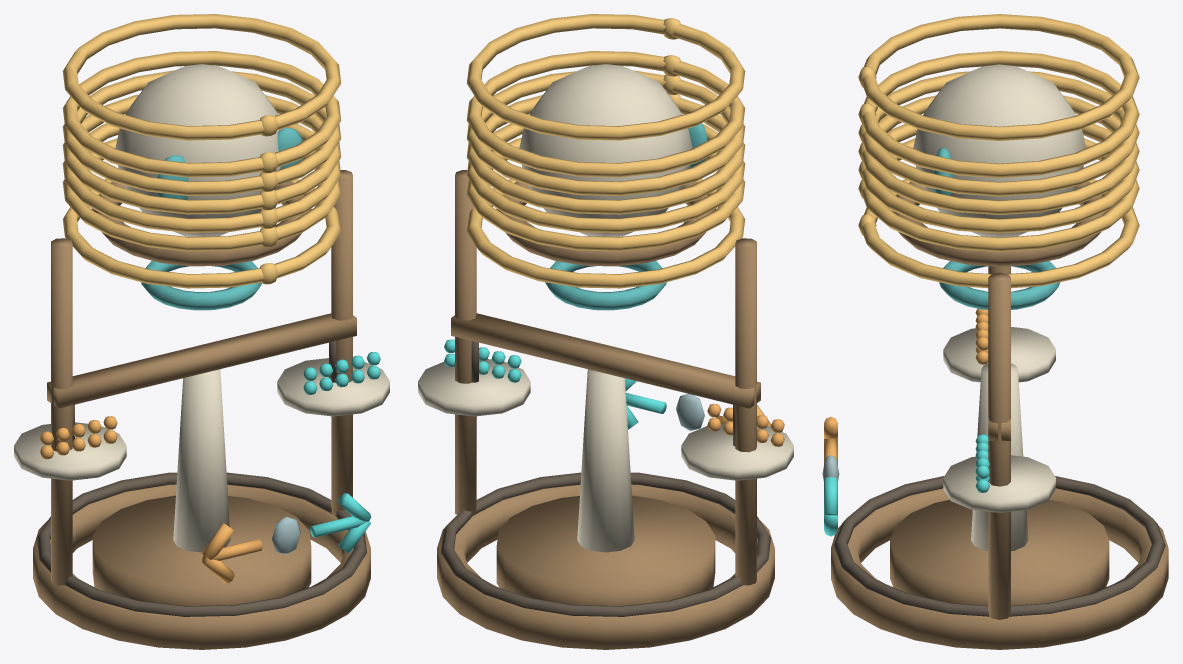
Rendered from world14-gravity-anchors.glb.
The picture shows the model from 3 angles, left to right: view 1: azimuth 30°, elevation 25°; view 2: azimuth 150°, elevation 25°; view 3: azimuth 270°, elevation 25°; orthographic projection.
Parts seen in each view (by area): view 1: bronze-hollow-foot, balance-foot, ceramic-floating-core, gold-mass-ring-5, balance-crossbar, gold-mass-ring-3, balance-column, footcourse, gold-mass-ring-2, bronze-upright, gold-mass-ring-2.001, bronze-upright.001 (+11 smaller); view 2: balance-foot, bronze-hollow-foot, ceramic-floating-core, gold-mass-ring-5, gold-mass-ring-3, balance-crossbar, balance-column, footcourse, bronze-upright, gold-mass-ring-2, bronze-upright.001, gold-mass-ring-2.001 (+8 smaller); view 3: bronze-hollow-foot, balance-foot, ceramic-floating-core, gold-mass-ring-5, gold-mass-ring-3, footcourse, bronze-upright.001, gold-mass-ring-2, gold-mass-ring-2.001, gold-mass-ring-1, gold-mass-ring-1.001, gold-mass-ring-1.002 (+6 smaller).
Boxes of the visible parts, x1=… form: bronze-hollow-foot: x1=33, y1=484, x2=370, y2=649; balance-foot: x1=92, y1=495, x2=311, y2=605; ceramic-floating-core: x1=115, y1=64, x2=283, y2=236; gold-mass-ring-5: x1=62, y1=14, x2=341, y2=140; balance-crossbar: x1=47, y1=313, x2=356, y2=408; gold-mass-ring-3: x1=62, y1=51, x2=341, y2=177; balance-column: x1=173, y1=369, x2=230, y2=552; footcourse: x1=37, y1=472, x2=366, y2=616; gold-mass-ring-2: x1=62, y1=70, x2=341, y2=195; bronze-upright: x1=51, y1=238, x2=72, y2=585; gold-mass-ring-2.001: x1=62, y1=94, x2=341, y2=214; bronze-upright.001: x1=331, y1=170, x2=352, y2=515; balance-foot: x1=496, y1=495, x2=715, y2=605; bronze-hollow-foot: x1=437, y1=484, x2=774, y2=649; ceramic-floating-core: x1=519, y1=64, x2=692, y2=236; gold-mass-ring-5: x1=466, y1=14, x2=745, y2=140; gold-mass-ring-3: x1=466, y1=51, x2=745, y2=177; balance-crossbar: x1=451, y1=313, x2=760, y2=408; balance-column: x1=577, y1=369, x2=634, y2=552; footcourse: x1=441, y1=472, x2=770, y2=616; bronze-upright: x1=735, y1=238, x2=756, y2=585; gold-mass-ring-2: x1=466, y1=70, x2=745, y2=195; bronze-upright.001: x1=455, y1=170, x2=476, y2=515; gold-mass-ring-2.001: x1=466, y1=95, x2=745, y2=214; bronze-hollow-foot: x1=831, y1=488, x2=1168, y2=649; balance-foot: x1=890, y1=499, x2=1109, y2=605; ceramic-floating-core: x1=913, y1=64, x2=1085, y2=237; gold-mass-ring-5: x1=861, y1=14, x2=1139, y2=140; gold-mass-ring-3: x1=861, y1=51, x2=1139, y2=177; footcourse: x1=834, y1=476, x2=1165, y2=616; bronze-upright.001: x1=988, y1=272, x2=1010, y2=619; gold-mass-ring-2: x1=861, y1=71, x2=1139, y2=196; gold-mass-ring-2.001: x1=861, y1=95, x2=1139, y2=214; gold-mass-ring-1: x1=861, y1=124, x2=1139, y2=233; gold-mass-ring-1.001: x1=861, y1=138, x2=1139, y2=251; gold-mass-ring-1.002: x1=861, y1=179, x2=1139, y2=288.
Size of the model in its own units: 2.96 by 4.02 by 2.46.
